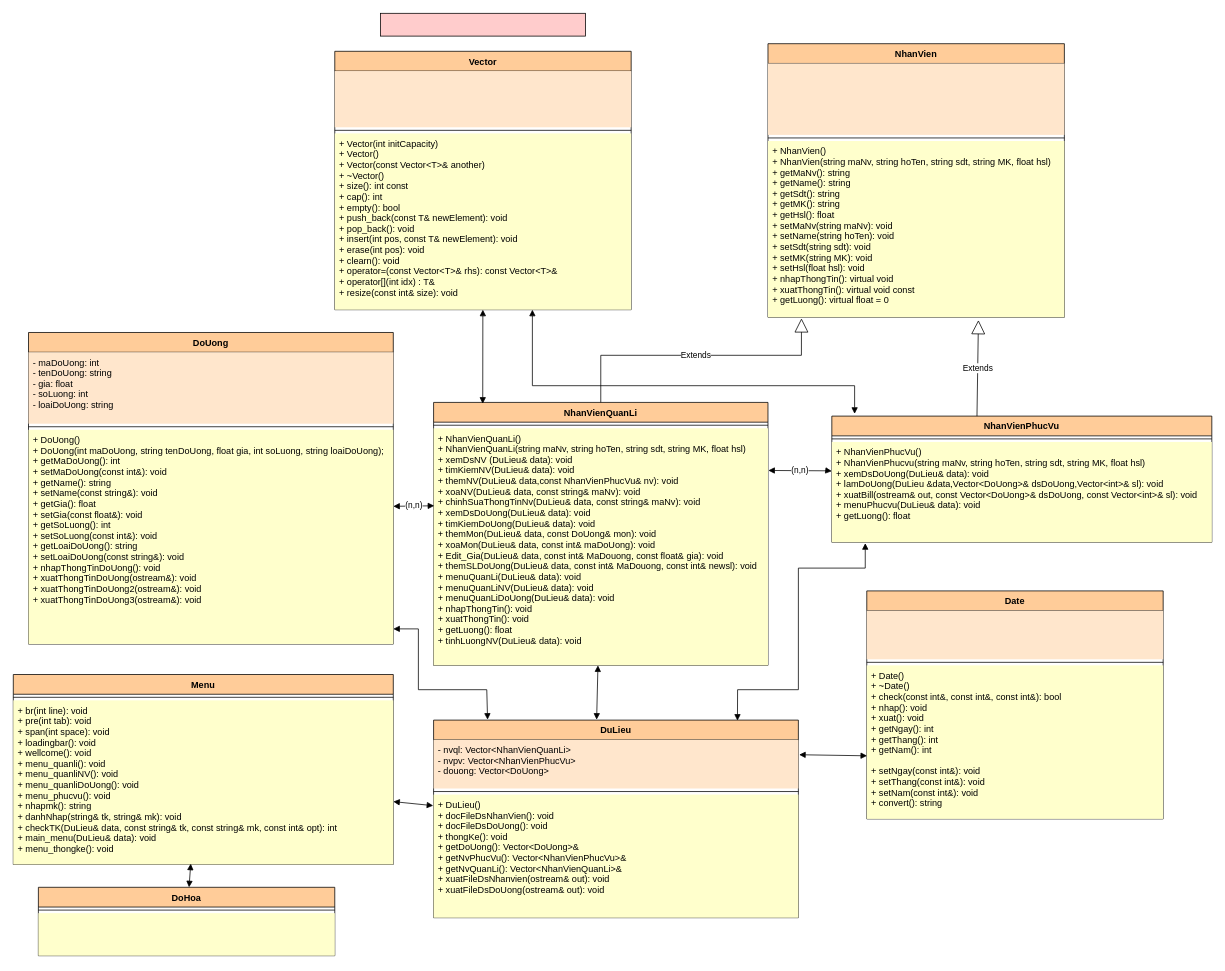
This 1225x971 diagram has some shape labels left out. Each missing label, with the centre of its shape:
"# maNV: string # hoTen: string # sdt: string # MK: string # hsl: float" goes at pixel 916 99.
"+ textColor(int x): static void + gotoxy(int x, int y): static void" goes at pixel 186 934.
"- ngay: int - thang: int - nam: int" goes at pixel 1014 634.
"- SIZE: int - capacity: int - arr: T* - expand(int newCapacity): void" goes at pixel 482 99.
"template<typename T>" goes at pixel 483 24.
